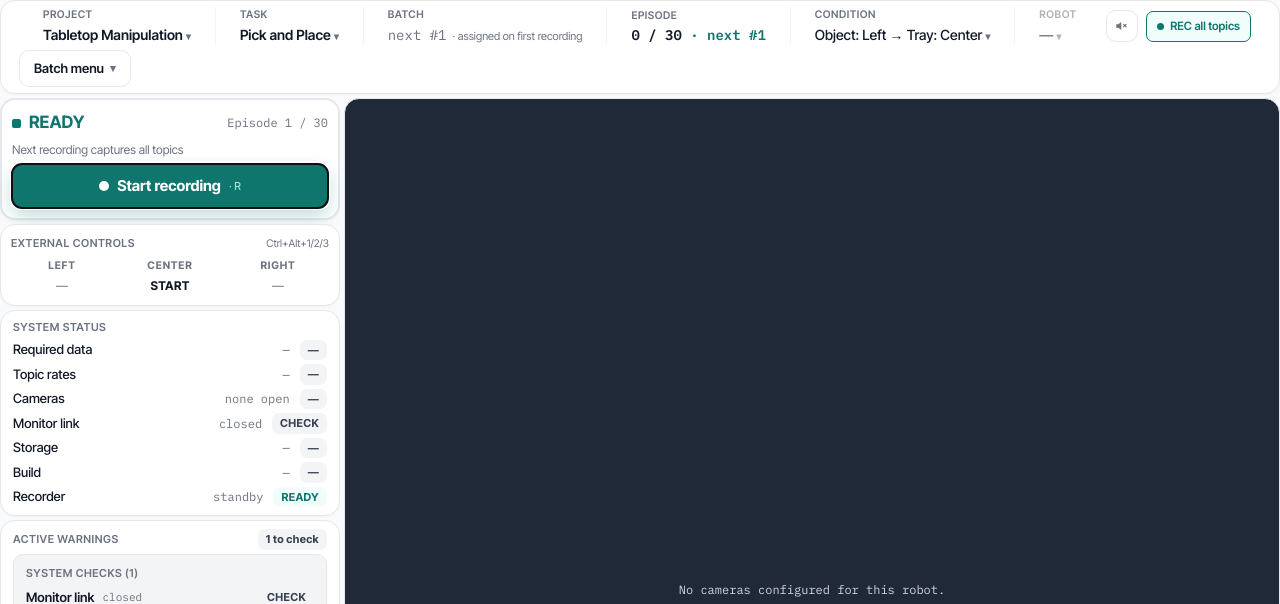
Test: Save PATCHes the capture review with base_revision and the batch stamp
Expected: the heading with test id "phase-title" reads "READY", [29, 112, 84, 132]
Click the button "Start recording · R" at (170,186), box [12, 164, 328, 208]
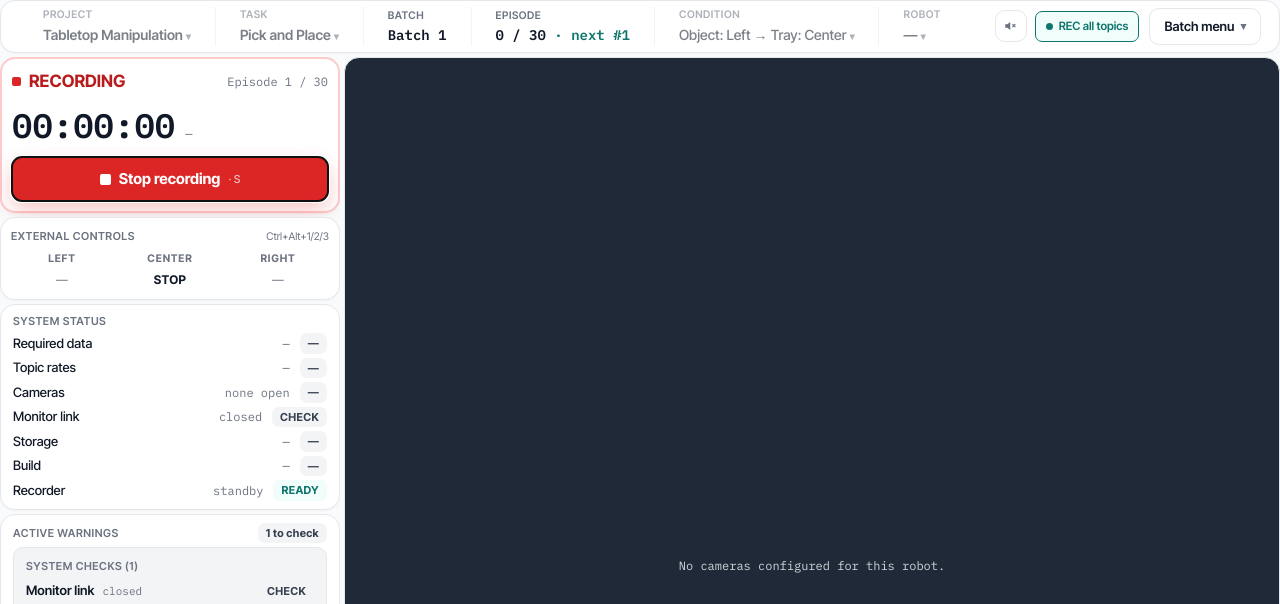
Now the heading with test id "phase-title" reads "RECORDING", box [29, 71, 125, 91]
Click the button "Stop recording · S" at (170,179), box [12, 157, 328, 201]
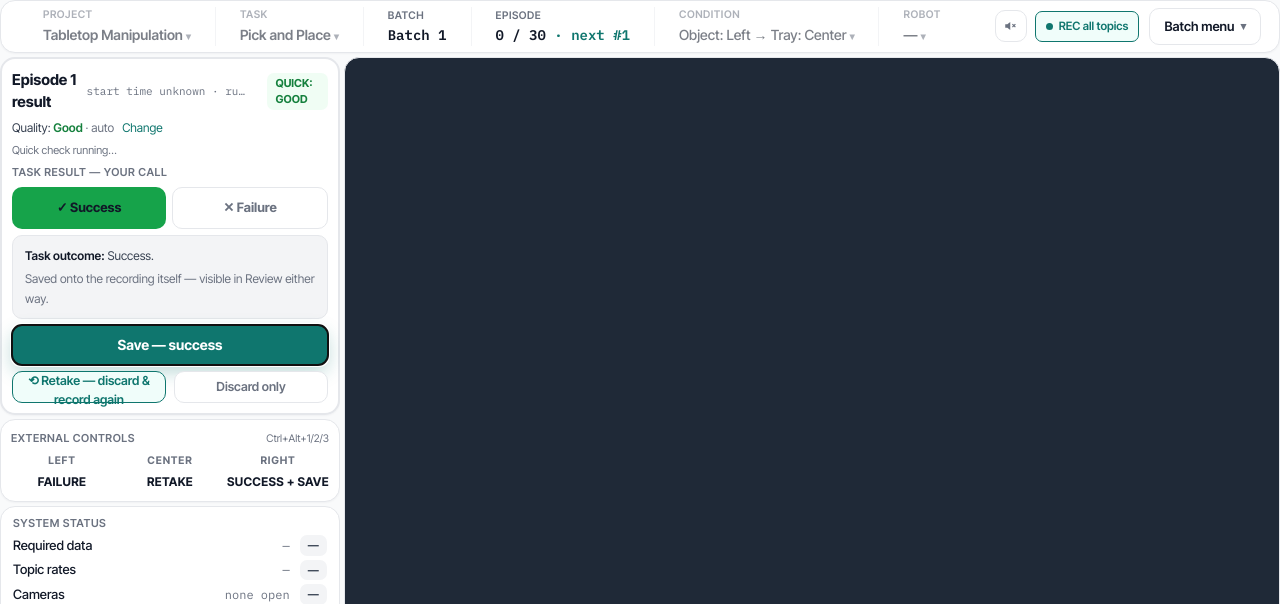
Now the heading with test id "phase-title" reads "Episode 1 result", box [12, 69, 79, 114]
Click the button with test id "save-episode" at (170,345), box [12, 325, 328, 365]
(page scrolled)
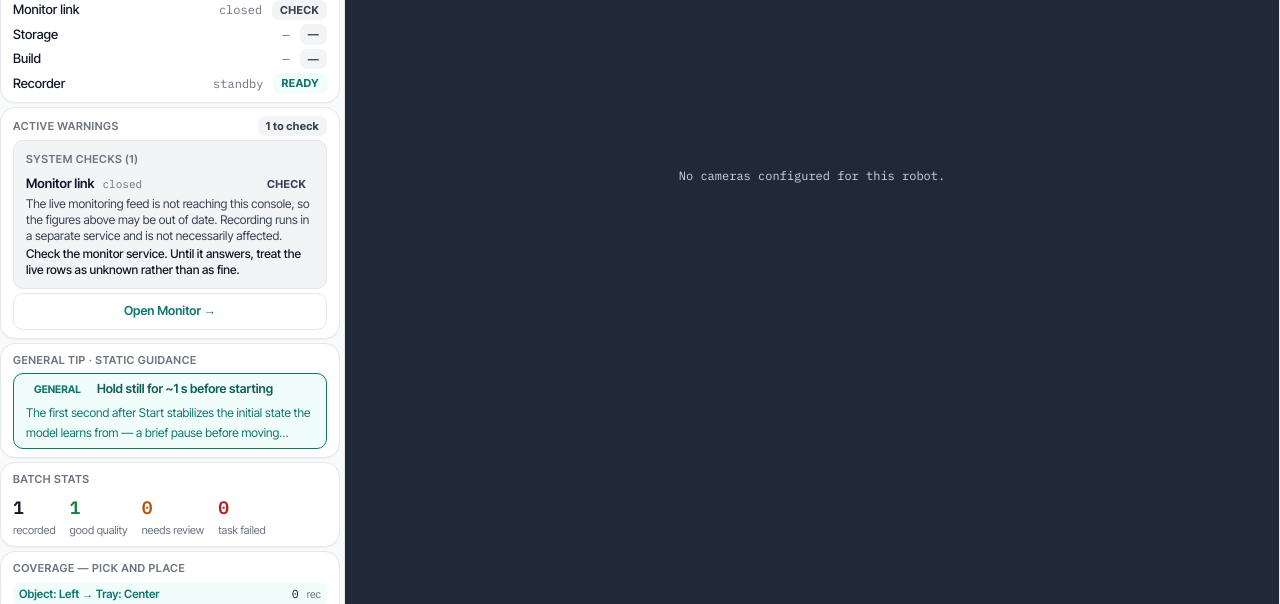
Now the text with test id "stat-recorded" reads "1", box [13, 496, 24, 519]
